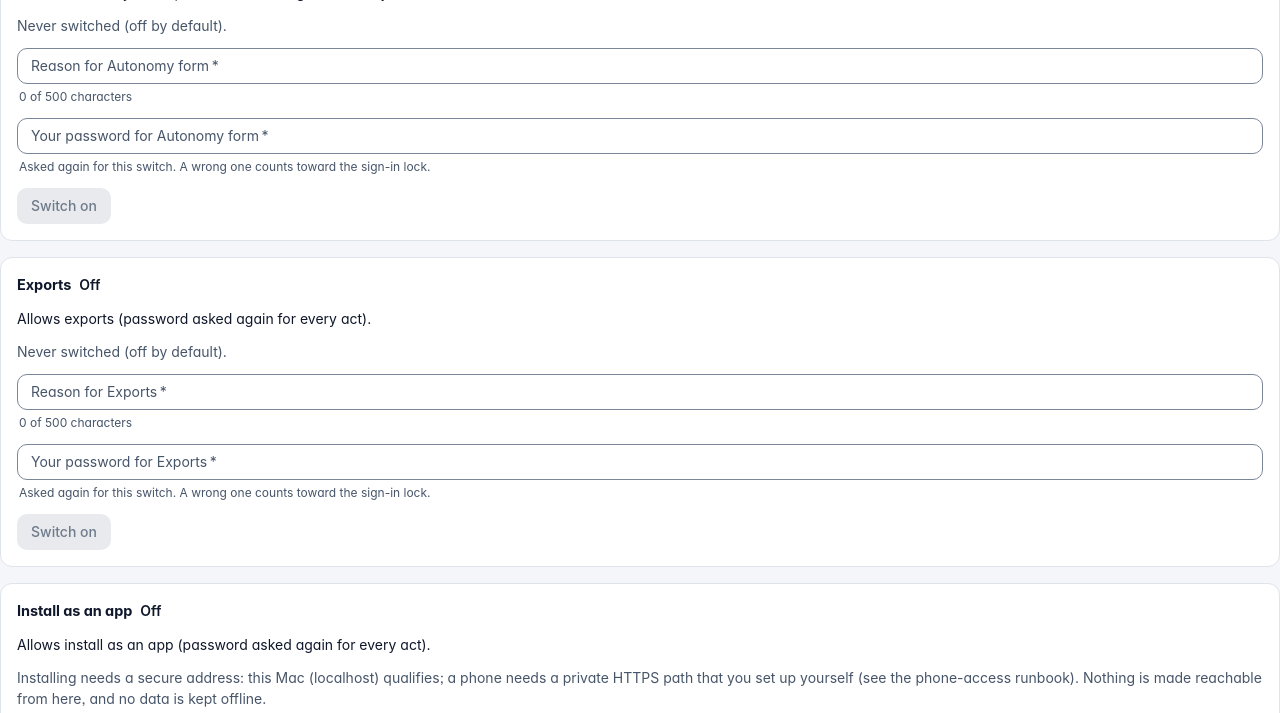
Scenario: Owner-act switches › shows the server words for a 422
(page scrolled)
Expected: the heading "Exports" is shown, [17,274,71,296]
Type "why" into the field labelled "Reason for Exports *".
click(640, 392); type("why")  # box [17,374,1263,410]
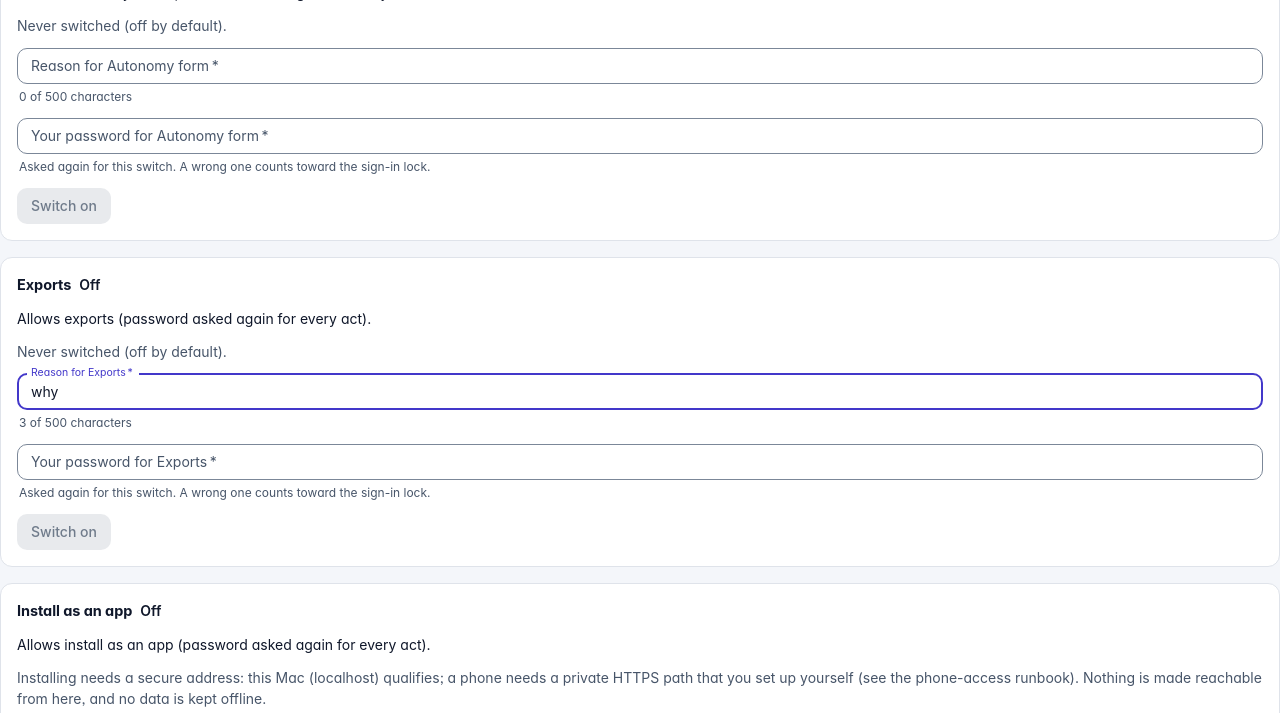
Type "pw" into the password field labelled "Your password for Exports *".
click(640, 462); type("pw")  # box [17,444,1263,480]
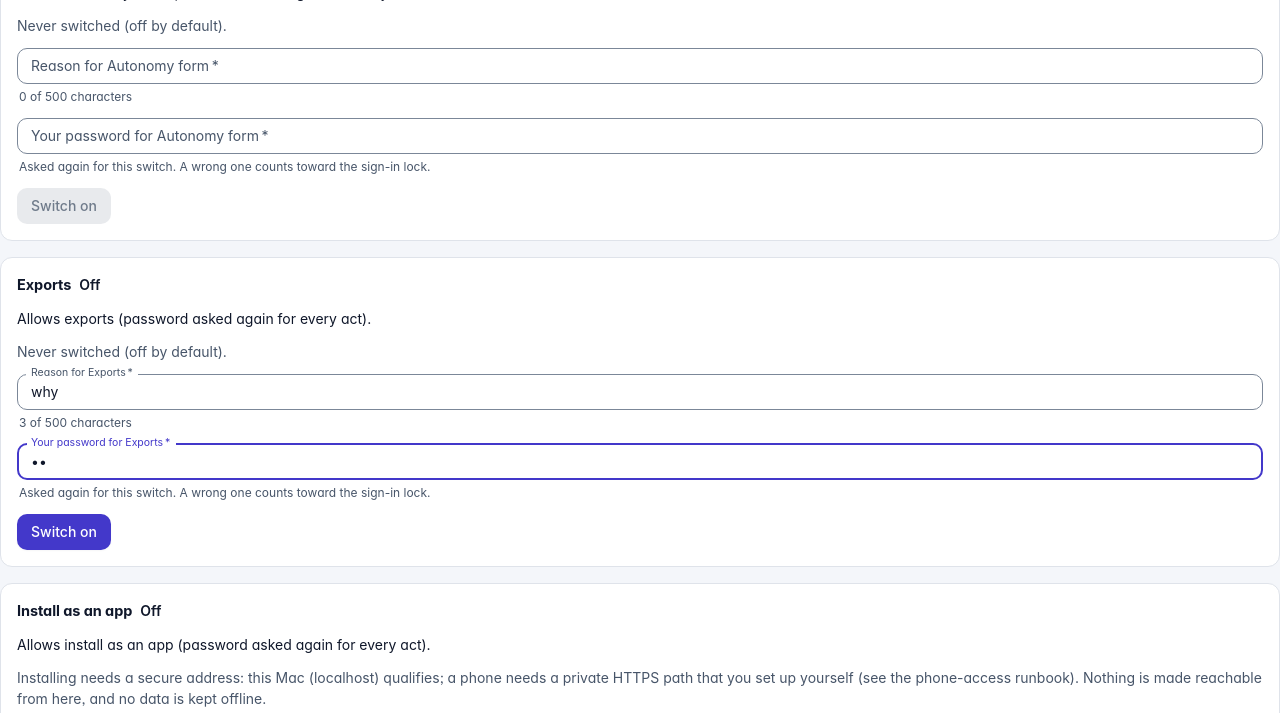
Click the button with aria-label "Switch on Exports".
click(64, 532)  # box [17,514,111,550]
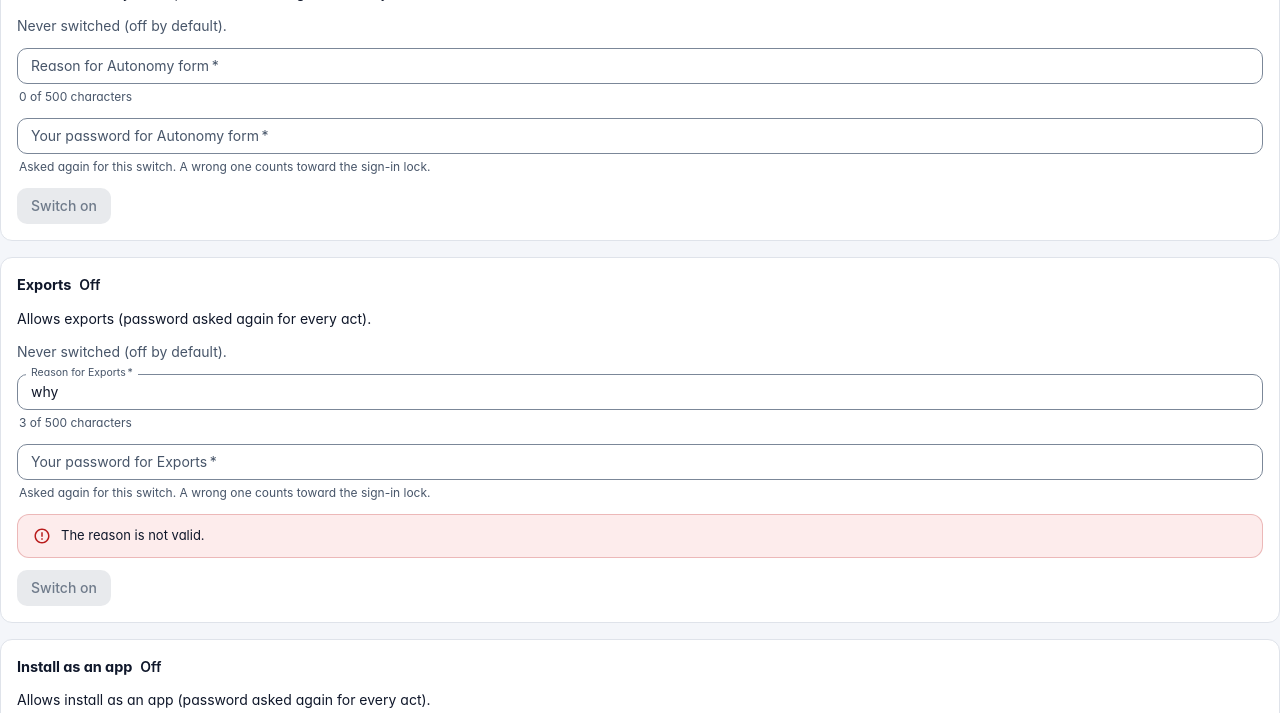
Result: the message reads "The reason is not valid." at [61,527,205,543]
Result: the password field labelled "Your password for Exports *" is empty at [17,444,1263,480]
